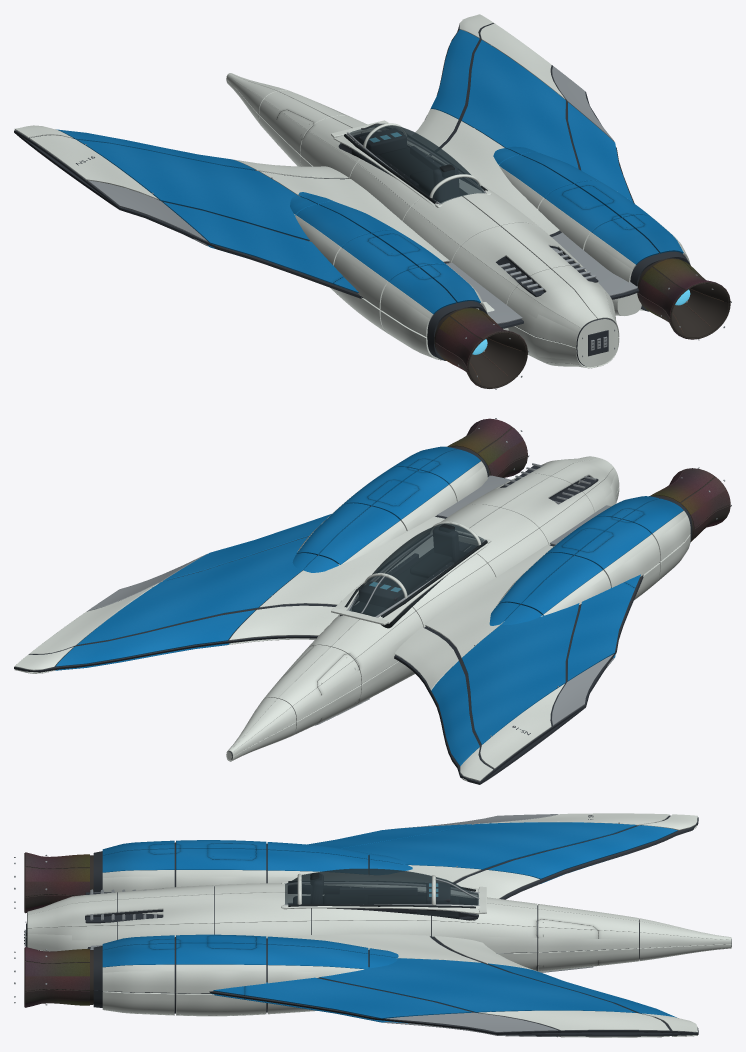
3 renders of one model, top to bottom at view 1: azimuth 30°, elevation 25°; view 2: azimuth 150°, elevation 25°; view 3: azimuth 270°, elevation 25°, orthographic. The views are drawn at different scales.
Parts seen in each view (by area): view 1: Fitted lifting skin.004, Fitted lifting skin.022, Fitted lifting skin.005, Thin laminated canopy glazing, Fitted lifting skin.019, Fitted lifting skin.001, Fitted lifting skin.023, Fitted lifting skin.007, Recessed convergent nozzle liner, Recessed convergent nozzle liner.001, Fuselage fitted skin 01.2, Fitted lifting skin.021 (+55 smaller); view 2: Fitted lifting skin.004, Fitted lifting skin.022, Thin laminated canopy glazing, Fitted lifting skin.019, Fitted lifting skin.021, Fitted lifting skin.005, Fitted lifting skin.001, Fitted lifting skin.003, Fitted lifting skin.018, Fitted lifting skin.007, Fitted lifting skin.023, Fitted lifting skin (+55 smaller); view 3: Fitted lifting skin.022, Fitted lifting skin.004, Thin laminated canopy glazing, Fitted lifting skin.023, Fitted lifting skin.003, Fitted lifting skin.025, Fuselage fitted skin 02.1, Fitted lifting skin.019, Fuselage fitted skin 01.1, Fuselage fitted skin 04.0, Removable nacelle cowl.040, Continuous lifting structure.002 (+66 smaller).
Boxes of the visible parts, x1,y1,x2,y2 form: Fitted lifting skin.004: [77, 139, 309, 240]; Fitted lifting skin.022: [461, 40, 578, 168]; Fitted lifting skin.005: [163, 202, 358, 292]; Thin laminated canopy glazing: [349, 123, 484, 203]; Fitted lifting skin.019: [432, 121, 559, 234]; Fitted lifting skin.001: [259, 171, 449, 261]; Fitted lifting skin.023: [567, 102, 633, 202]; Fitted lifting skin.007: [29, 135, 158, 199]; Recessed convergent nozzle liner: [469, 332, 526, 387]; Recessed convergent nozzle liner.001: [671, 283, 729, 337]; Fuselage fitted skin 01.2: [461, 226, 549, 286]; Fitted lifting skin.021: [430, 29, 479, 119]; Fitted lifting skin.004: [462, 603, 579, 744]; Fitted lifting skin.022: [77, 536, 308, 644]; Thin laminated canopy glazing: [349, 523, 484, 616]; Fitted lifting skin.019: [259, 516, 444, 607]; Fitted lifting skin.021: [55, 610, 255, 666]; Fitted lifting skin.005: [567, 574, 640, 681]; Fitted lifting skin.001: [425, 545, 553, 657]; Fitted lifting skin.003: [431, 661, 479, 766]; Fitted lifting skin.018: [229, 605, 351, 640]; Fitted lifting skin.007: [480, 683, 564, 768]; Fitted lifting skin.023: [163, 514, 331, 581]; Fitted lifting skin: [394, 627, 458, 690]; Fitted lifting skin.022: [319, 958, 635, 1012]; Fitted lifting skin.004: [343, 822, 636, 869]; Thin laminated canopy glazing: [285, 868, 478, 905]; Fitted lifting skin.023: [213, 977, 471, 1018]; Fitted lifting skin.003: [488, 825, 677, 879]; Fitted lifting skin.025: [478, 1010, 669, 1030]; Fuselage fitted skin 02.1: [214, 892, 310, 923]; Fitted lifting skin.019: [266, 934, 480, 962]; Fuselage fitted skin 01.1: [117, 894, 213, 925]; Fuselage fitted skin 04.0: [431, 921, 537, 952]; Removable nacelle cowl.040: [176, 964, 266, 993]; Continuous lifting structure.002: [87, 936, 698, 1034].
Bounding box in the file's own units: 2.62 × 0.6239 × 3.65.
9 materials, 3 textured.
